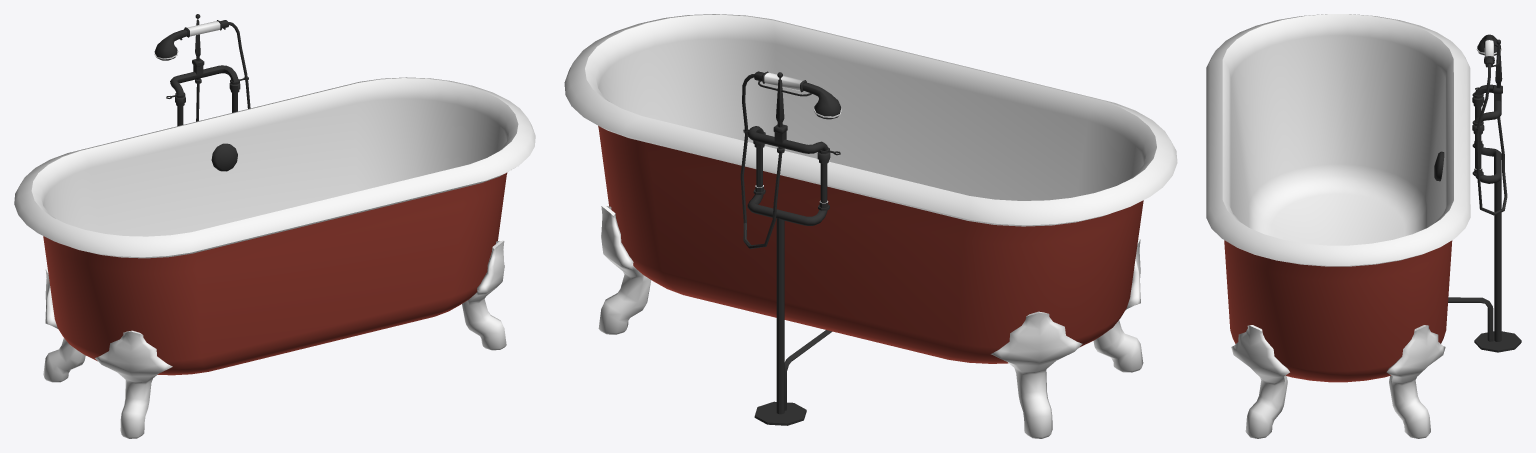
Rendered from KOHLER11195T.FBX.
3 views of the same model, side by side, from view 1: azimuth 30°, elevation 25°; view 2: azimuth 150°, elevation 25°; view 3: azimuth 270°, elevation 25° (orthographic). The views are drawn at different scales.
Parts seen in each view (by area): view 1: KOHLER11195T; view 2: KOHLER11195T; view 3: KOHLER11195T.
Boxes of the visible parts, bbox=[...] form: KOHLER11195T: bbox=[14, 14, 535, 438]; KOHLER11195T: bbox=[564, 14, 1177, 438]; KOHLER11195T: bbox=[1206, 14, 1521, 438].
Size of the model in its own units: 175 by 94.79 by 100.
